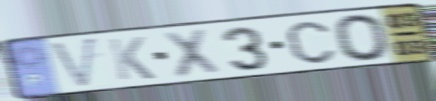3: (219, 24, 271, 73)
C: (284, 19, 338, 65)
K: (106, 35, 158, 82)
O: (331, 12, 394, 63)
V: (48, 35, 100, 91)
X: (160, 26, 224, 81)
